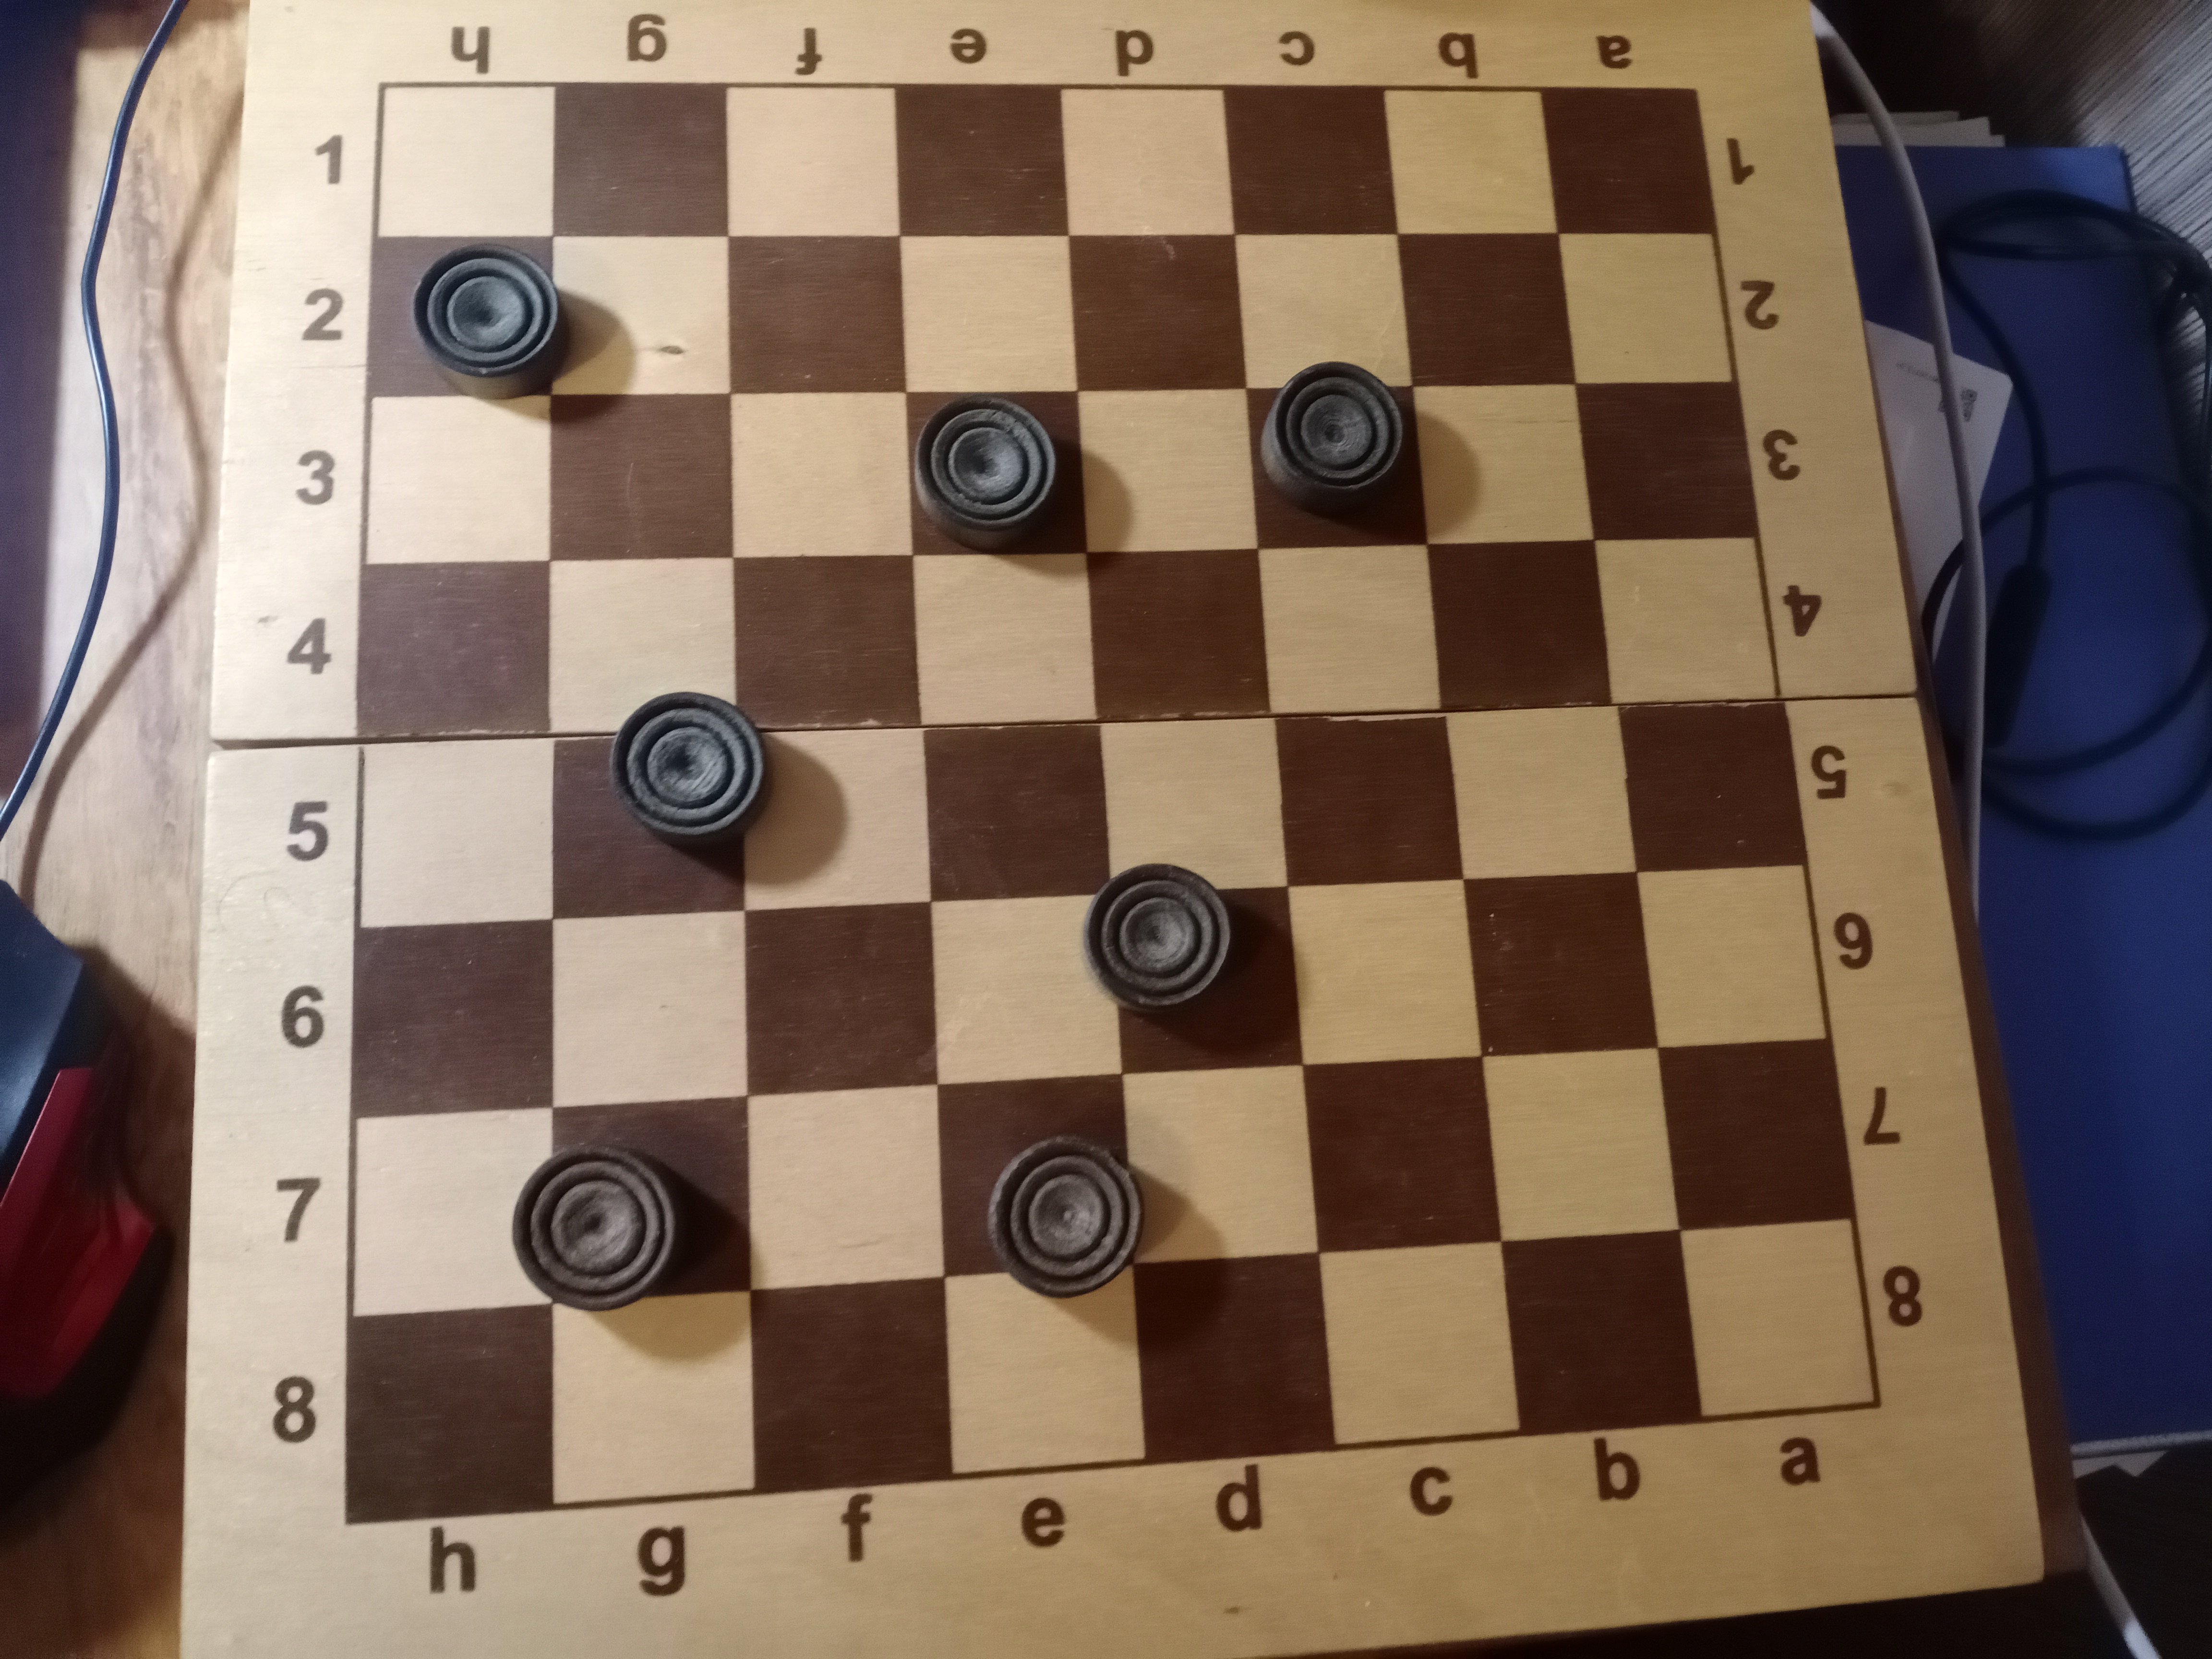Black_Draught: (514, 1101, 763, 1310), (545, 692, 772, 920), (1075, 859, 1306, 1072), (935, 1080, 1146, 1298), (1244, 362, 1437, 556), (371, 234, 568, 408), (902, 392, 1092, 559)
